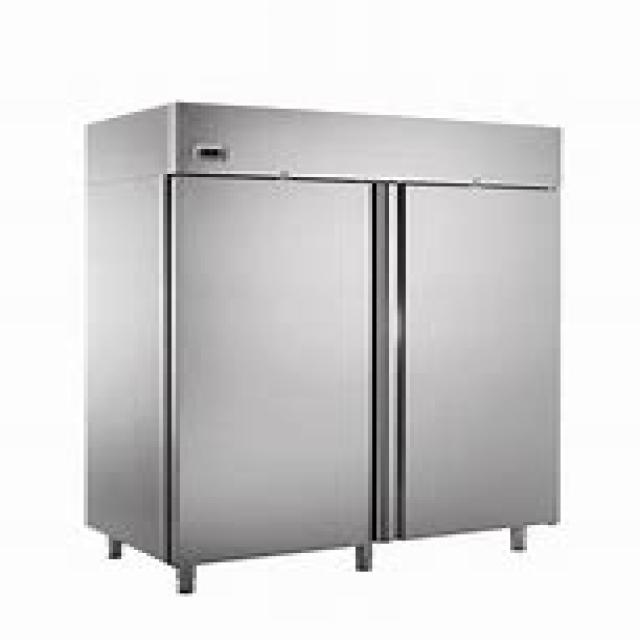fridge: (80, 96, 560, 594)
